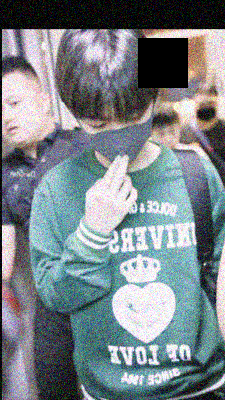with_mask: (79, 105, 154, 166), (194, 100, 217, 121)
without_mask: (2, 89, 40, 146), (150, 124, 179, 151)
